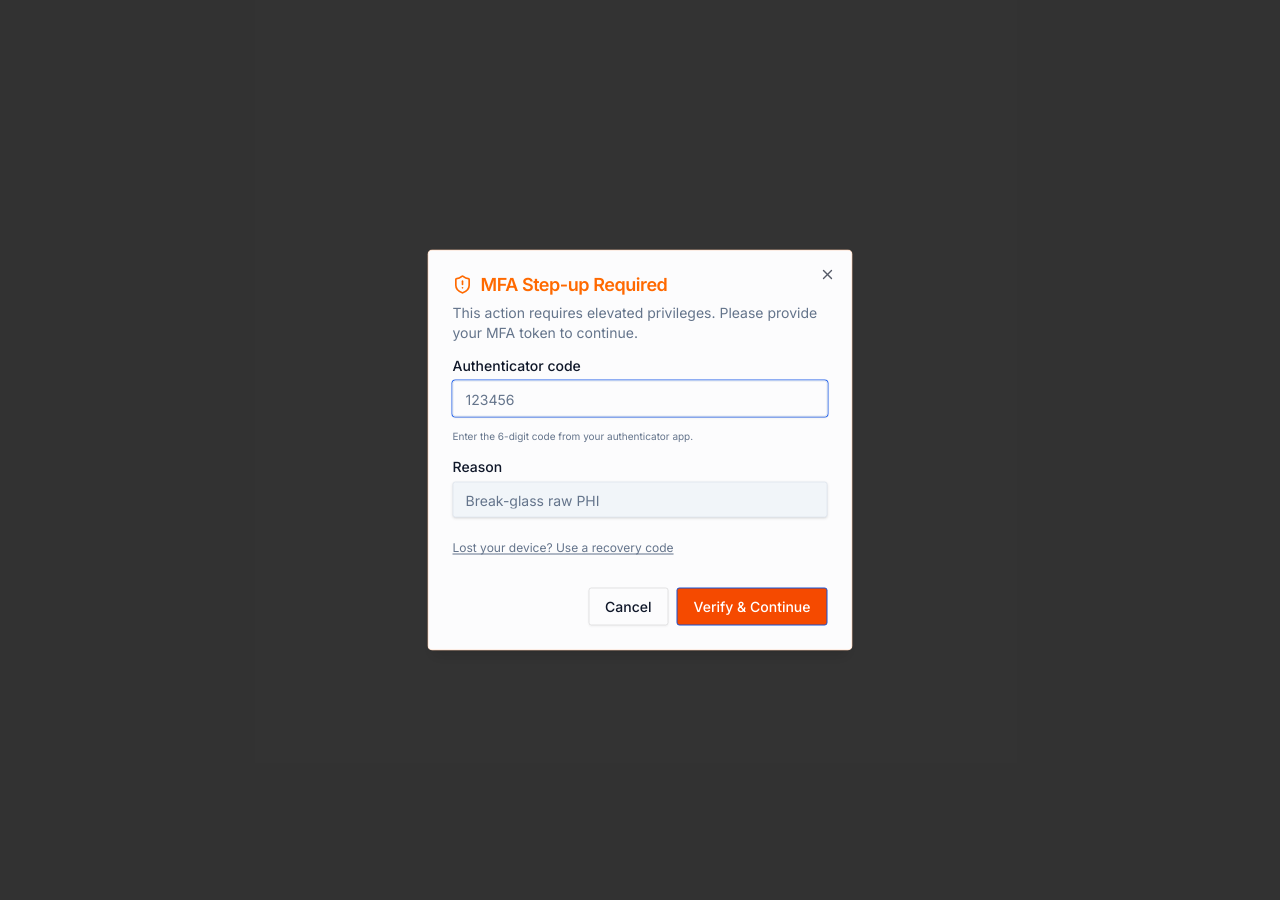
Test: StepUpModal › toggles back from recovery to the factor ceremony
Click the button "Lost your device? Use a recovery code" at (563, 548), box [452,540,674,556]
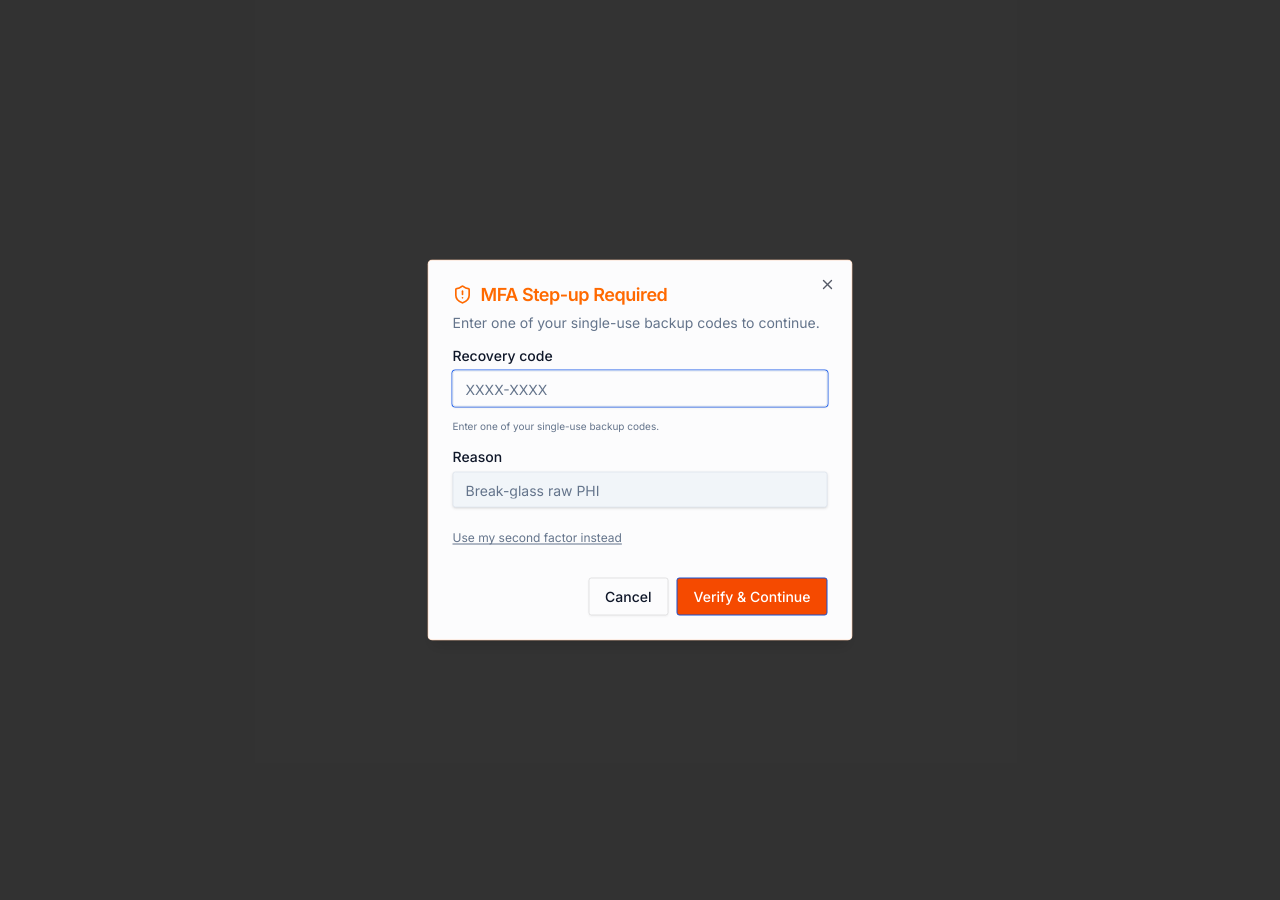
Check: the field with placeholder "XXXX-XXXX" is shown, box [452,370,828,406]
Click the button "Use my second factor instead" at (537, 538), box [452,530,622,546]
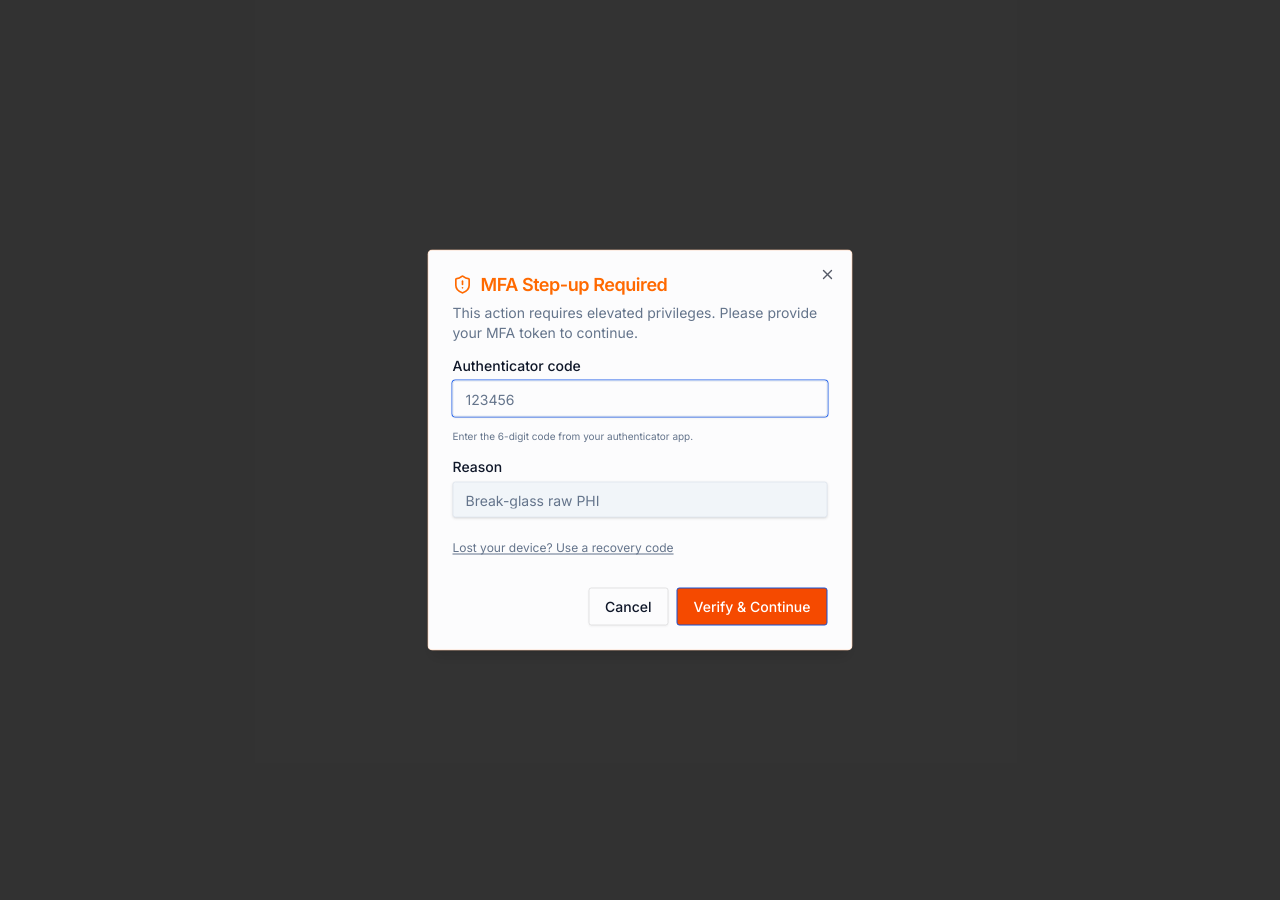
Check: the field with placeholder "XXXX-XXXX" is not shown
Check: the field with placeholder "123456" is shown, box [452,380,828,416]
